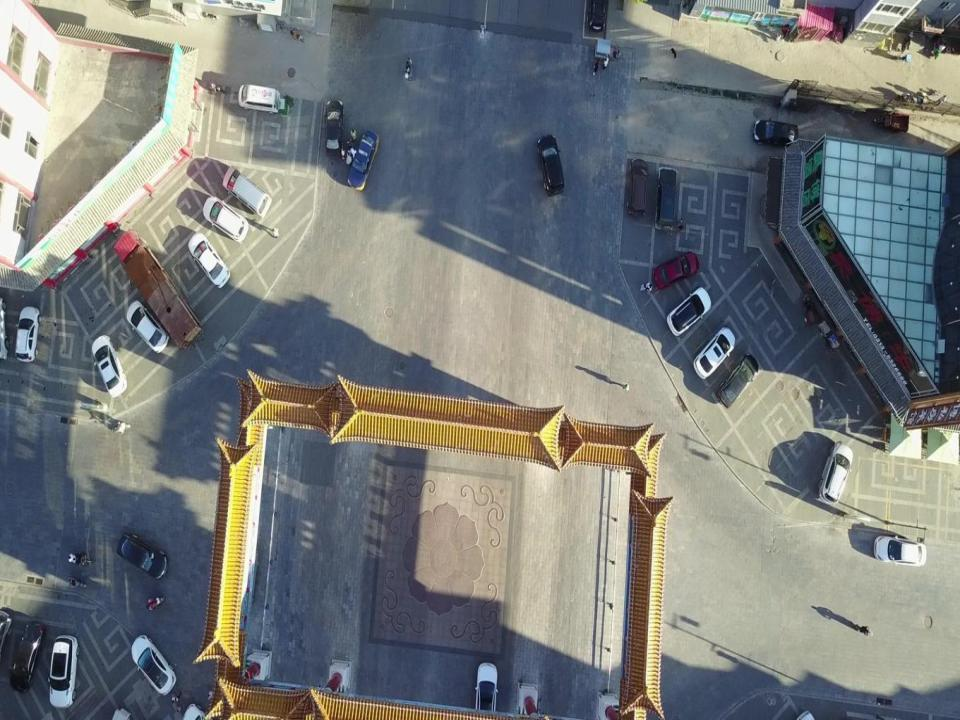car: (132, 635, 176, 696), (188, 231, 231, 289), (116, 533, 167, 579), (126, 300, 170, 353), (717, 354, 760, 408), (48, 634, 79, 708), (666, 287, 712, 336), (10, 622, 44, 688), (693, 327, 736, 379), (202, 196, 248, 243), (819, 442, 853, 504), (93, 336, 127, 398), (347, 129, 379, 191), (873, 536, 927, 568), (652, 252, 698, 289), (538, 135, 565, 194), (654, 166, 678, 230), (627, 158, 651, 218), (16, 306, 42, 360), (753, 117, 798, 147), (475, 663, 496, 719), (324, 101, 343, 157), (585, 1, 606, 31), (272, 227, 280, 239)
truck: (114, 229, 203, 351)
van: (222, 165, 272, 218), (238, 84, 284, 113)
